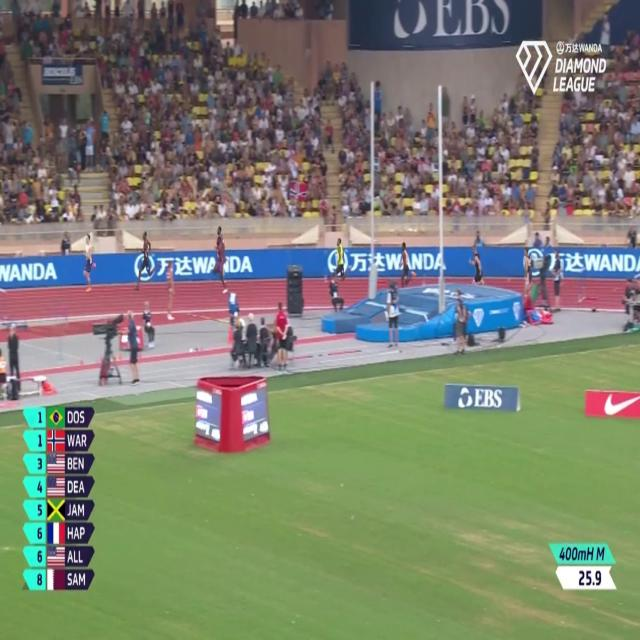athlete: (135, 230, 161, 289), (326, 236, 353, 288), (79, 230, 99, 293), (396, 236, 418, 292), (210, 233, 230, 294), (519, 241, 535, 298), (470, 238, 486, 289)
hurdle: (574, 268, 597, 312)
